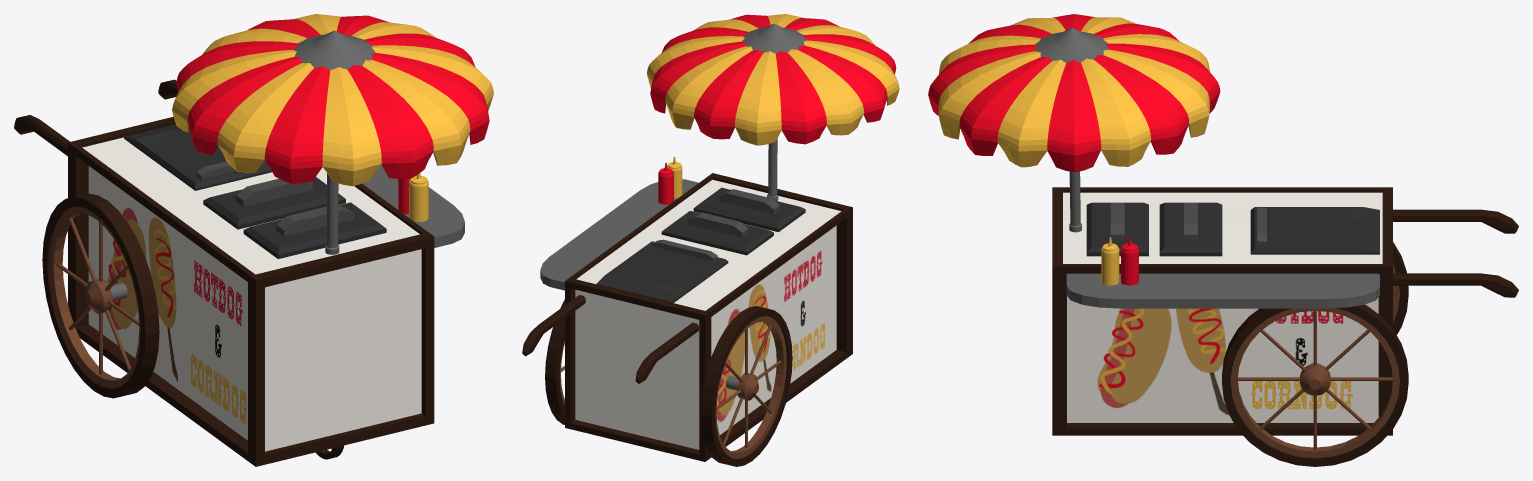
Rendered from hot_dog_stand.glb.
3 renders of one model, left to right at view 1: azimuth 30°, elevation 25°; view 2: azimuth 150°, elevation 25°; view 3: azimuth 270°, elevation 25°, orthographic. The views are drawn at different scales.
Visible parts, largest first — view 1: Cylinder.003; view 2: Cylinder.003; view 3: Cylinder.003.
Boxes of the visible parts, x1,y1,x2,y2 form: Cylinder.003: [14, 14, 493, 466]; Cylinder.003: [522, 14, 899, 466]; Cylinder.003: [928, 14, 1518, 466].
Size of the model in its own units: 3.2 by 4.64 by 6.32.
Materials: 1 (1 with a texture image).
